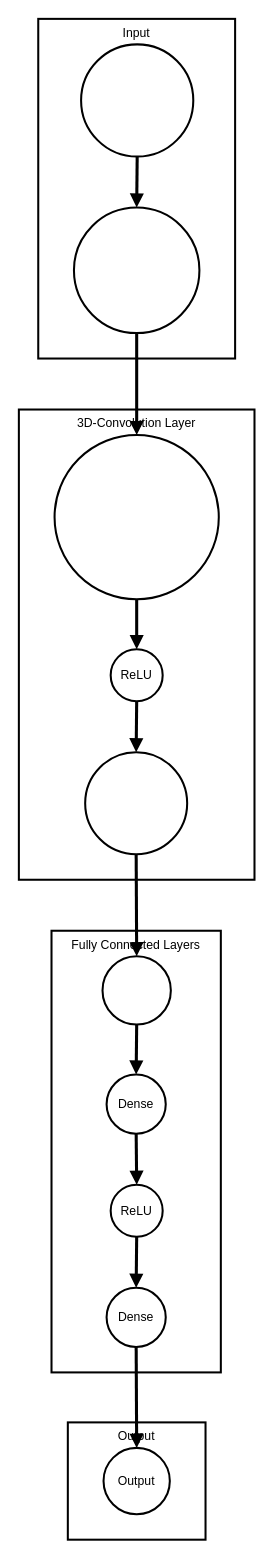
This 272x1558 diagram has some shape labels left out. The shapes that lost their labels are listed below. From the top down, each one's centre as x and y in pixels, then its label:
pixel 137 100: Input Volume
pixel 136 270: 3D Convolution
pixel 136 517: Batch Normalization
pixel 136 803: Max Pooling
pixel 136 990: Flatten
